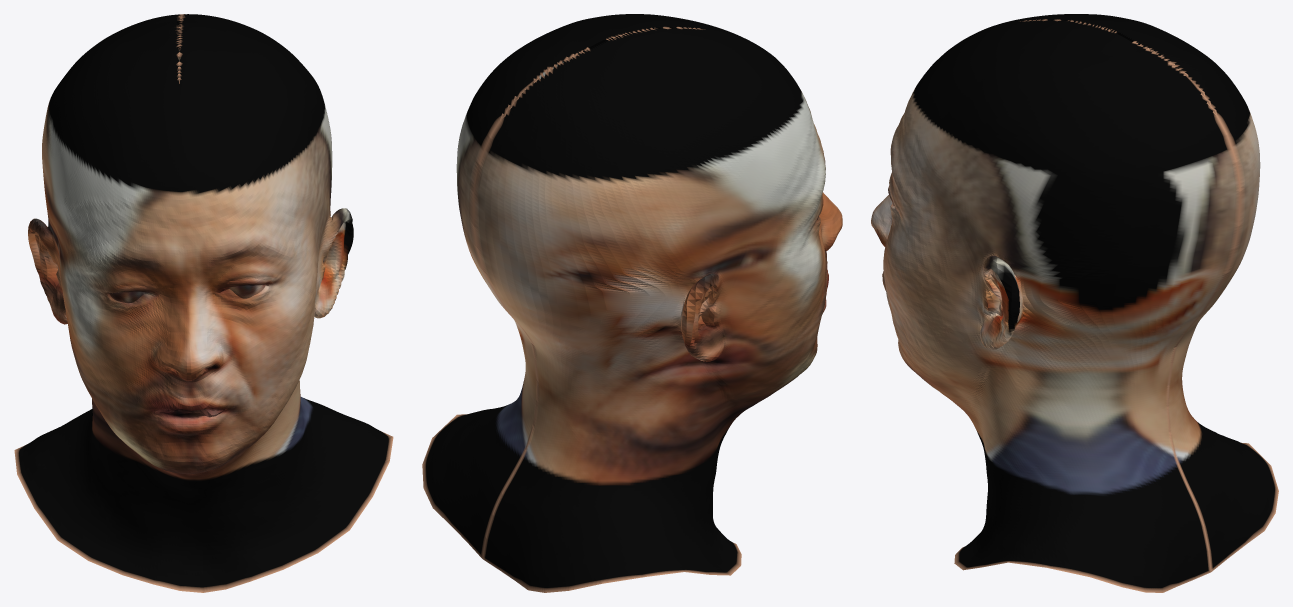
The model's file is mesh_coarse_detail.obj.
The picture shows the model from 3 angles, left to right: view 1: azimuth 30°, elevation 25°; view 2: azimuth 150°, elevation 25°; view 3: azimuth 270°, elevation 25°; orthographic projection. The views are drawn at different scales.
Bounding box in the file's own units: 0.2113 × 0.3146 × 0.219.
